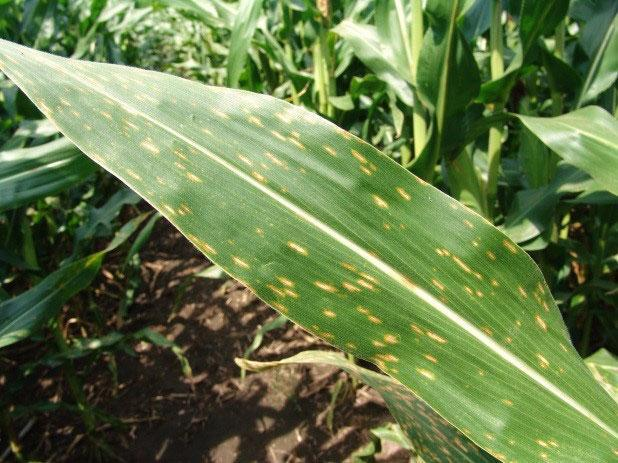Corn_Blight: (237, 220, 408, 380), (448, 203, 576, 375), (330, 108, 429, 220), (121, 161, 219, 268), (198, 93, 320, 152), (37, 78, 126, 143), (460, 417, 575, 463), (416, 319, 453, 387), (232, 162, 309, 189), (133, 136, 172, 157)
